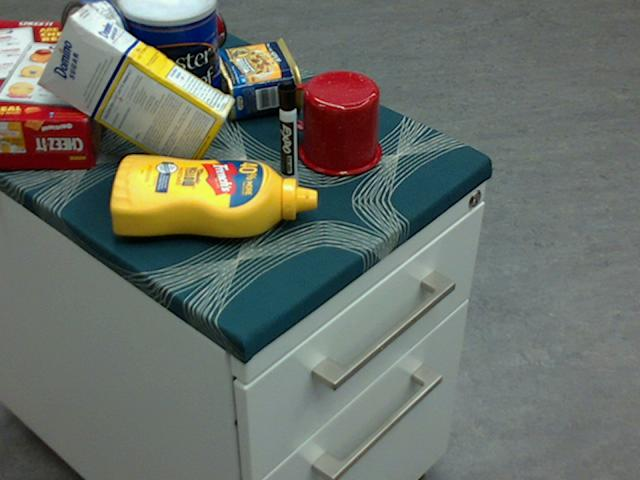cracker_box: (0, 23, 116, 169)
gelatin_box: (97, 0, 184, 51)
large_marker: (278, 79, 297, 188)
master_chef_can: (118, 0, 221, 135)
mug: (284, 69, 380, 175)
mustard_bottle: (110, 155, 317, 236)
potted_meat_can: (212, 37, 303, 118)
sugar_box: (39, 6, 237, 174)
tomato_soup_can: (131, 0, 227, 81)
tuna_fish_can: (61, 0, 131, 83)
